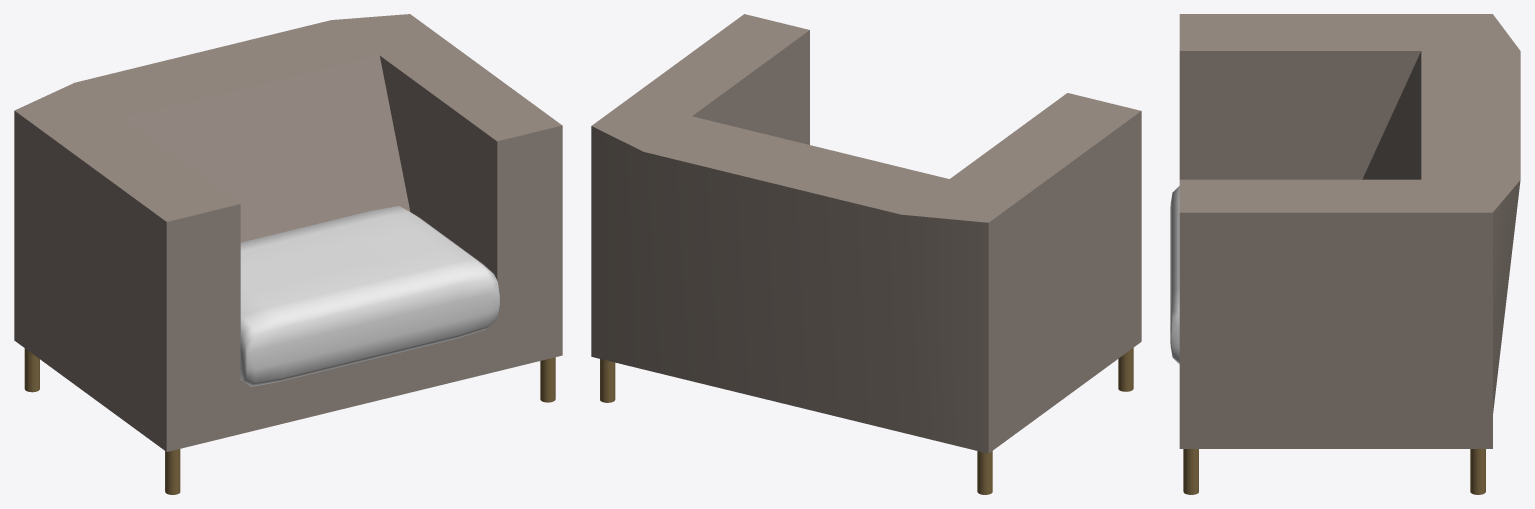
3 views of the same model, side by side, from view 1: azimuth 30°, elevation 25°; view 2: azimuth 150°, elevation 25°; view 3: azimuth 270°, elevation 25° (orthographic). The views are drawn at different scales.
Visible parts, largest first — view 1: Cube, Cube.001, Cylinder.003, Cylinder, Cylinder.002; view 2: Cube, Cylinder.002, Cylinder.001, Cylinder.003; view 3: Cube, Cube.001, Cylinder, Cylinder.001.
Part boxes in pixels (x1,y1,x2,y2): Cube: (14,14,562,451); Cube.001: (240,206,499,386); Cylinder.003: (165,449,180,494); Cylinder: (540,357,555,402); Cylinder.002: (24,348,39,392); Cube: (591,14,1141,453); Cylinder.002: (977,451,992,494); Cylinder.001: (600,359,615,402); Cylinder.003: (1118,348,1133,391); Cube: (1179,14,1520,448); Cube.001: (1170,186,1179,364); Cylinder: (1183,449,1198,494); Cylinder.001: (1470,449,1485,494).
Bounding box in the file's own units: 0.9 × 0.5995 × 0.6707.
